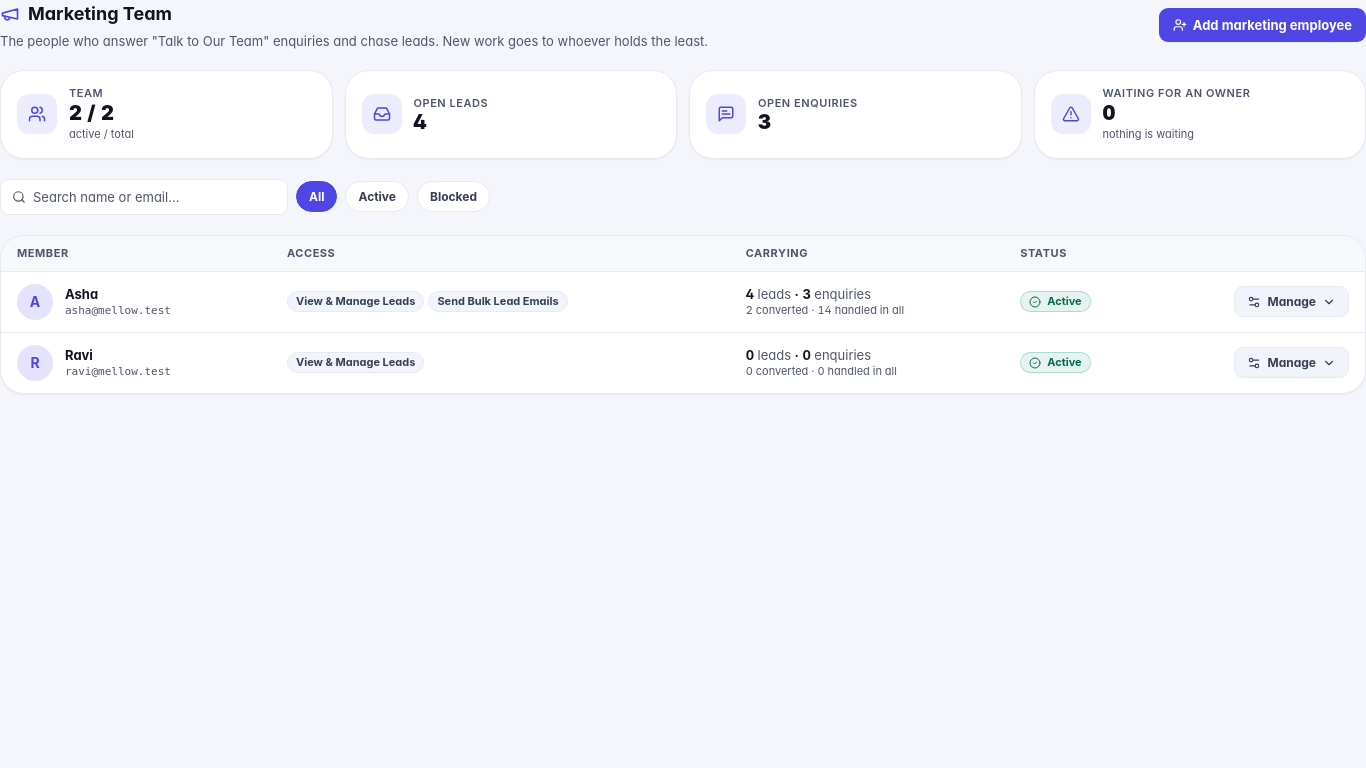
it: adding › creates a marketing account with the chosen access and shows the one-time password
This screenshot has width=1366, height=768.
Click the button "Add marketing employee": [1262, 25] box x1=1159 y1=8 x2=1365 y2=42
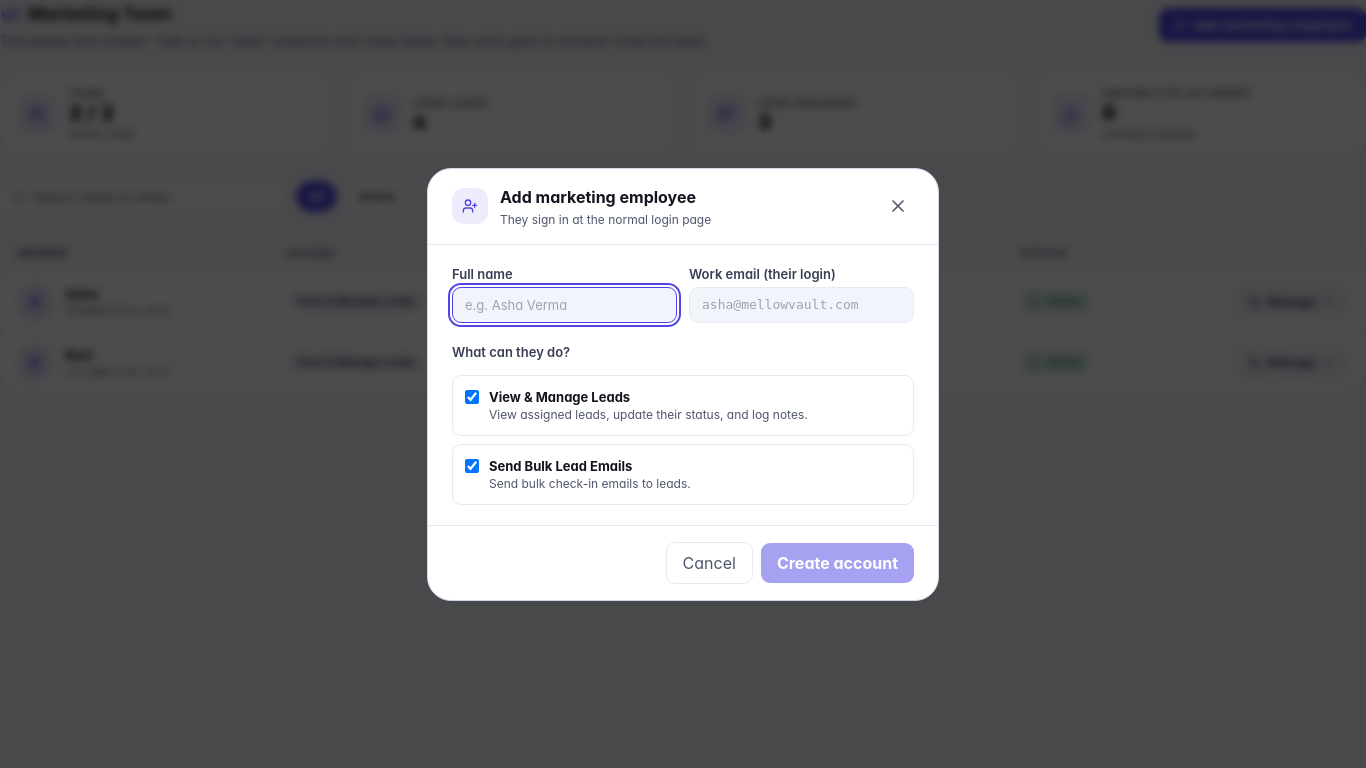
In the field labelled "Full name": [564, 304] box x1=452 y1=286 x2=677 y2=322, type "Kabir"
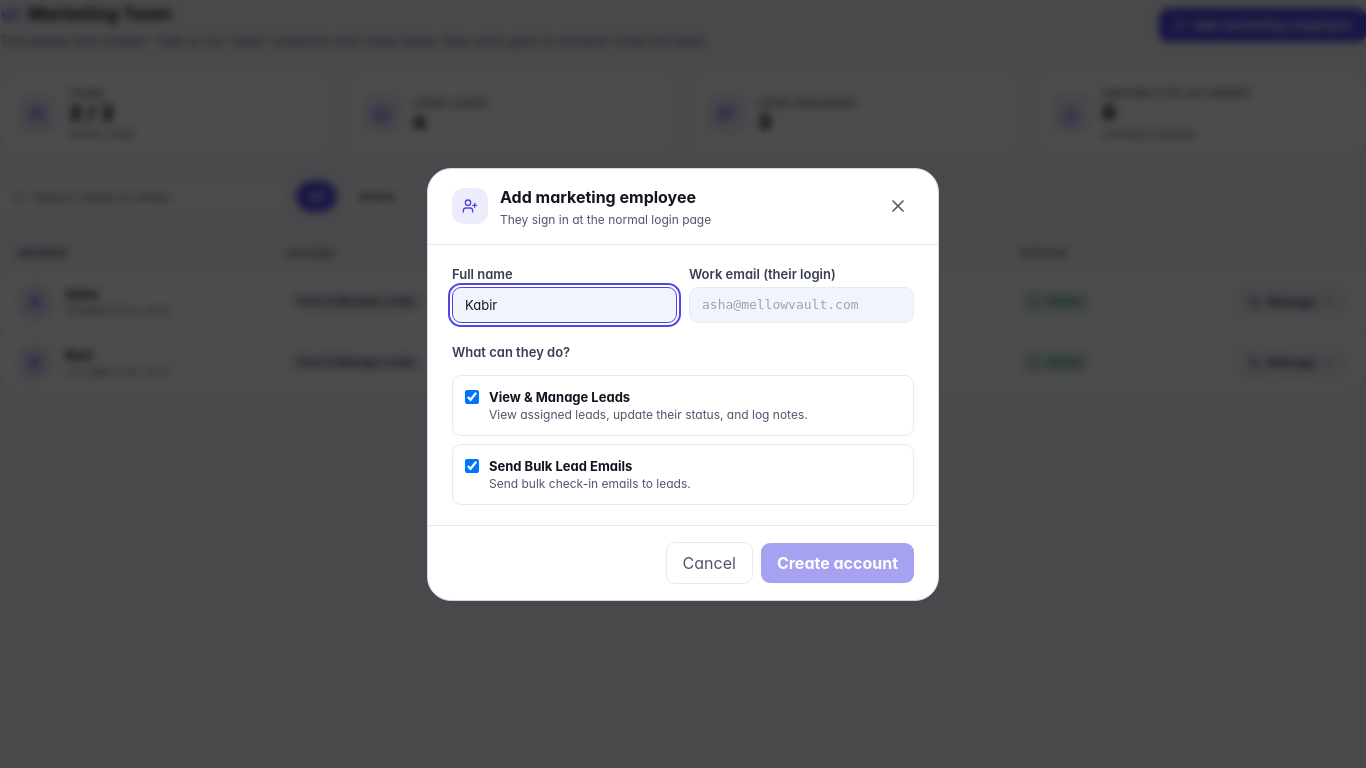
In the field labelled "Work email (their login)": [802, 304] box x1=689 y1=286 x2=914 y2=322, type "kabir@mellow.test"
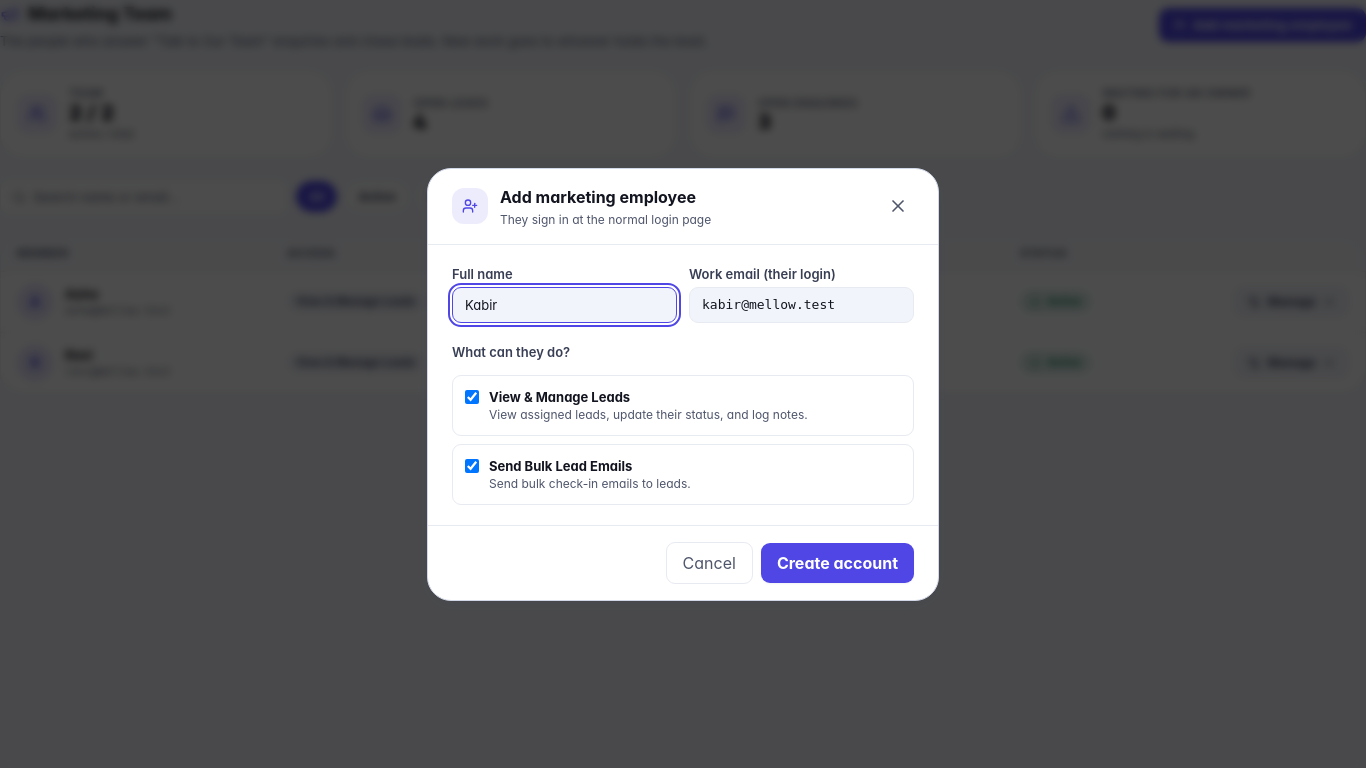
Click the checkbox labelled "Send Bulk Lead Emails Send bulk check-in emails to leads.": [472, 466] box x1=465 y1=458 x2=479 y2=472
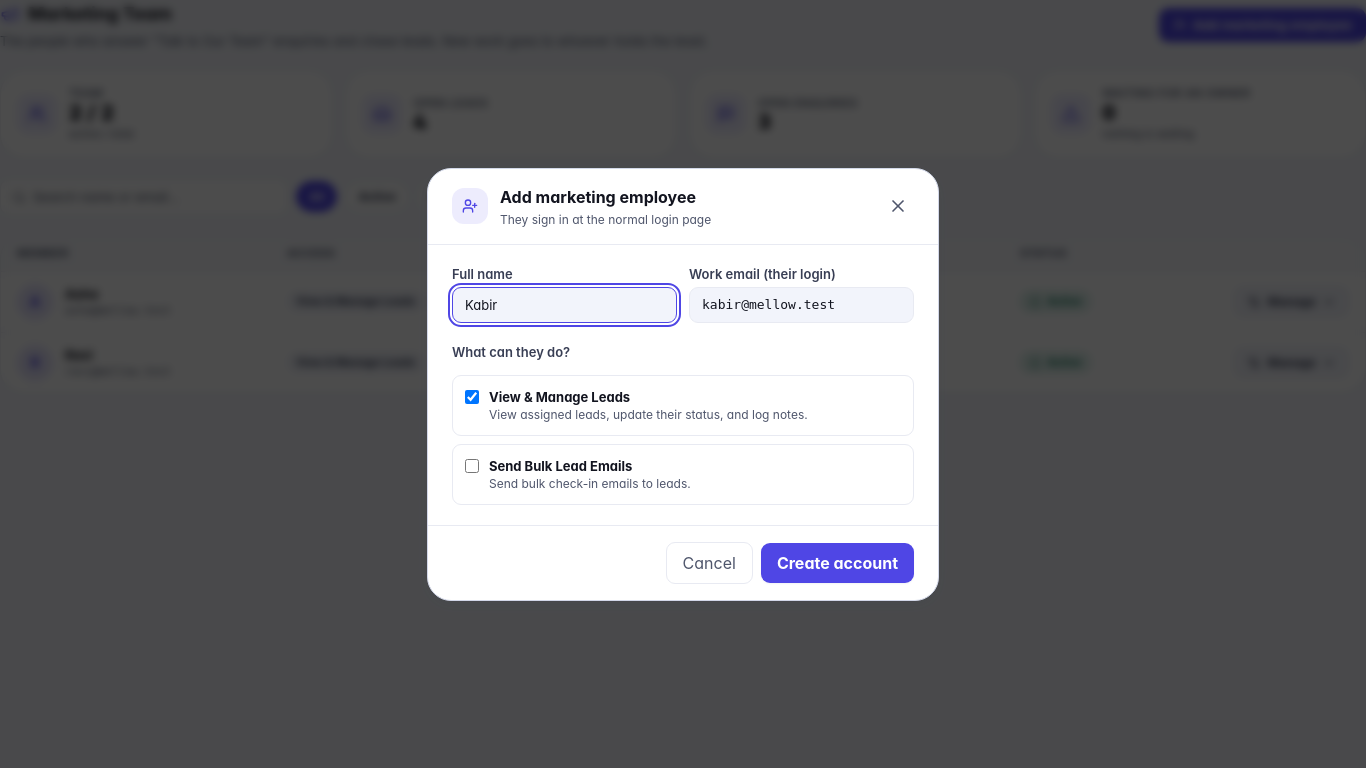
Click the button "Create account": [837, 562] box x1=761 y1=542 x2=914 y2=582
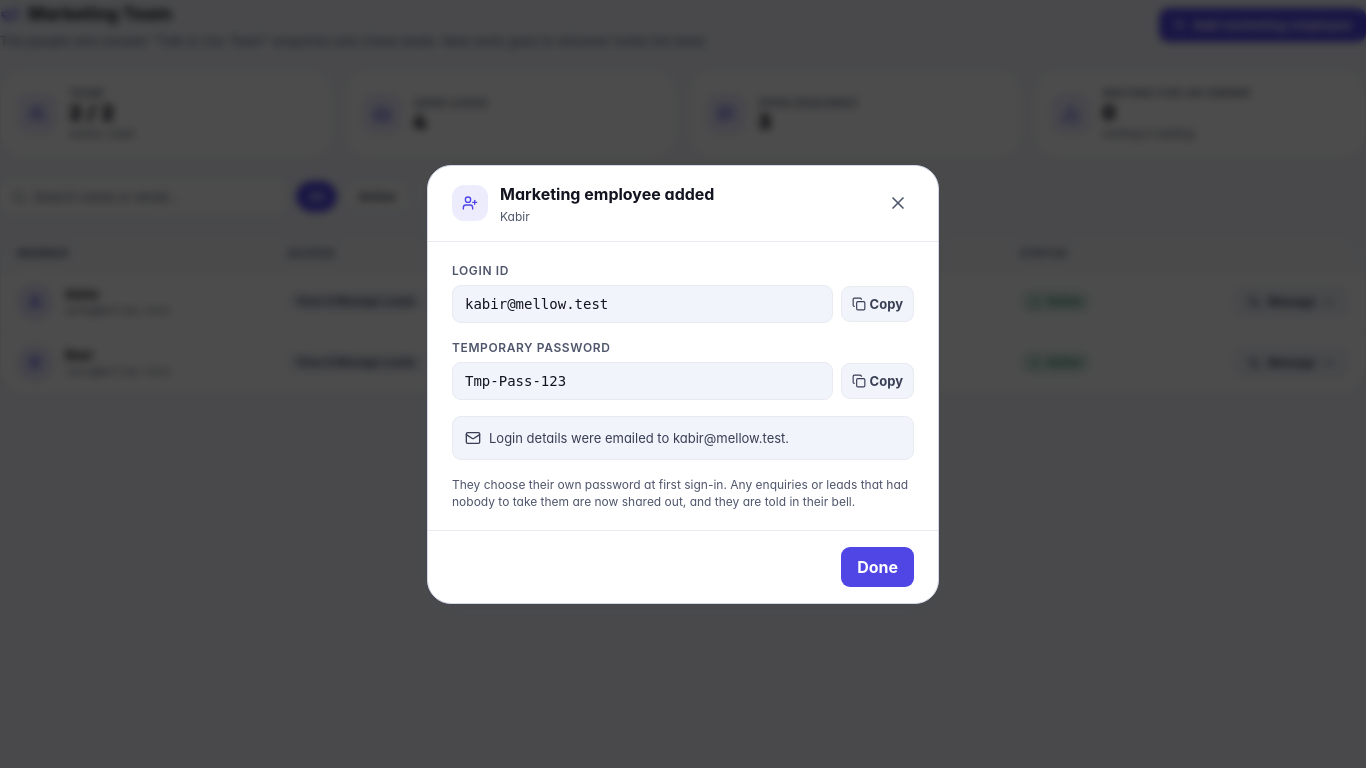
expect the text "Tmp-Pass-123" is shown: met, box x1=452 y1=362 x2=833 y2=400
expect the text "Login details were emailed to kabir@mellow.test." is shown: met, box x1=489 y1=428 x2=789 y2=446
